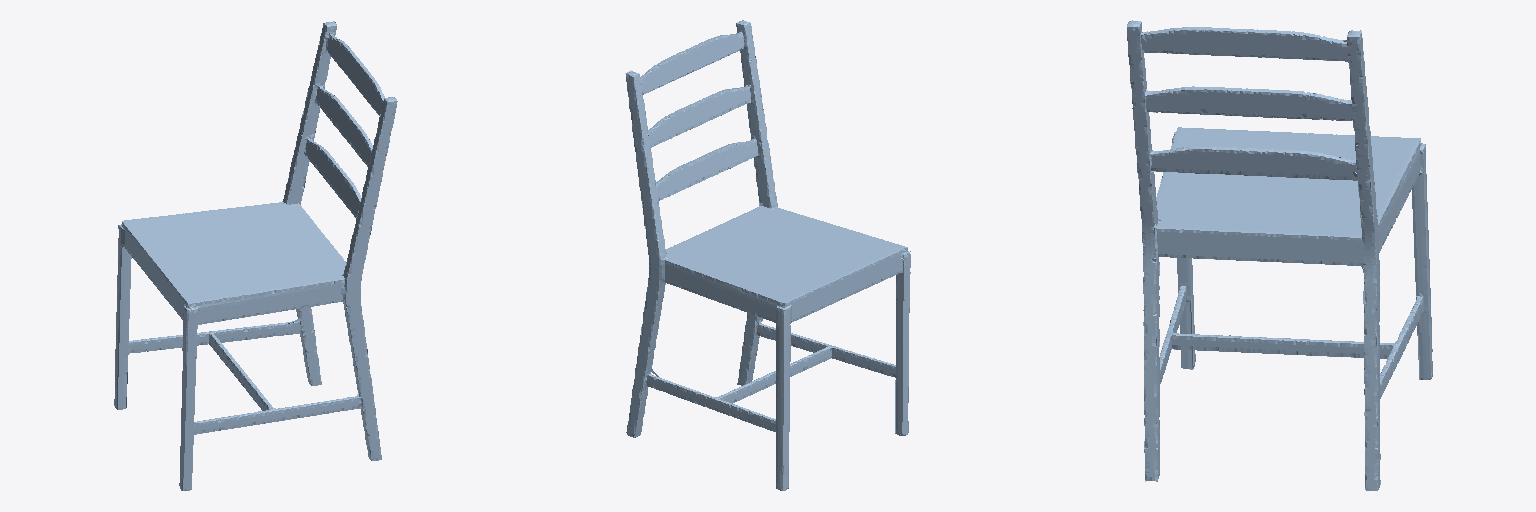
robot.urdf — woodchair.urdf:
<?xml version="1.0" ?>
<robot name="woodchair.urdf">
  <dynamics damping="0.5" friction="0.9"/>
  <link name="baseLink">
    <contact>
      <lateral_friction value="0.9"/>
      <rolling_friction value="0.5"/>
      <stiffness value="30000"/>
      <damping value="1000"/>
    </contact>
    <visual>
      <origin rpy="0 0 0" xyz="0 0 0"/>
      <geometry>
        <mesh filename="meshes/woodchair/woodchair.stl" scale="1.0 1.0 1.0"/>
      </geometry>
       <material name="mat">
        <color rgba="0.7 0.8 0.9 1"/>
      </material>
    </visual>
    <collision>
      <origin rpy="0 0 0" xyz="0 0 0"/>
      <geometry>
	 	<mesh filename="meshes/woodchair/woodchair.stl" scale="1.0 1.0 1.0"/>
      </geometry>
    </collision>
  </link>
</robot>

--- Render facts (derived) ---
The picture shows the robot from 3 angles, left to right: view 1: azimuth 30°, elevation 25°; view 2: azimuth 150°, elevation 25°; view 3: azimuth 270°, elevation 25°; orthographic projection.
Robot: woodchair.urdf — 1 links, 0 joints (none); root link baseLink; default pose: every joint at zero.
Links seen in each view (by area): view 1: baseLink; view 2: baseLink; view 3: baseLink.
Boxes of the visible links, <box> form: baseLink: <box>114,21,397,490</box>; baseLink: <box>625,20,910,490</box>; baseLink: <box>1127,20,1432,490</box>.
Size in the robot's own frame: 0.5585 by 0.5293 by 0.8919 metres.
Meshes: 1 distinct files referenced, 1 mesh visuals loaded (1 binary STL).
